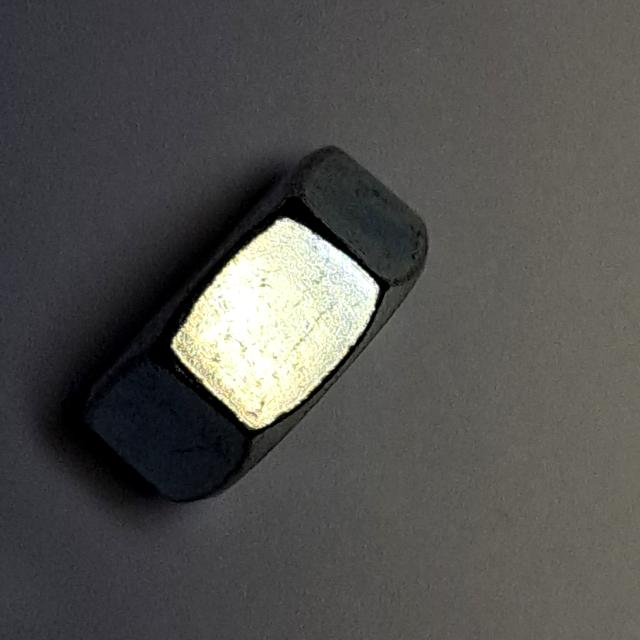Side_Excellent: (70, 128, 485, 525)
